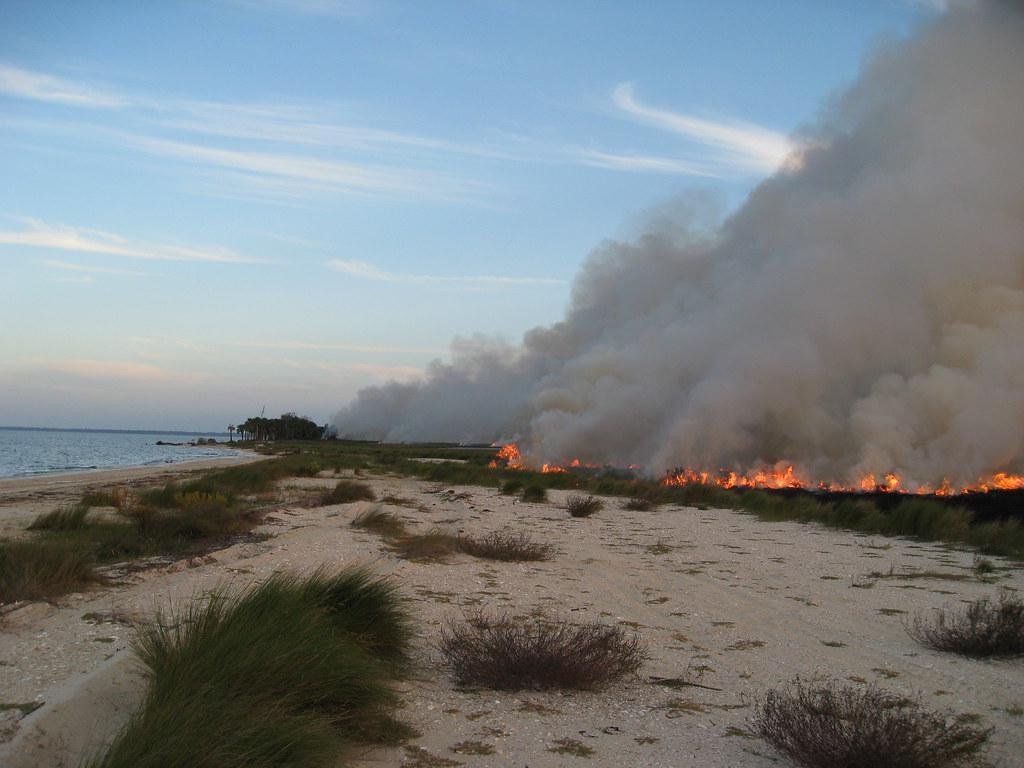Fire: (659, 456, 1022, 507), (534, 458, 592, 474), (493, 442, 524, 471)
